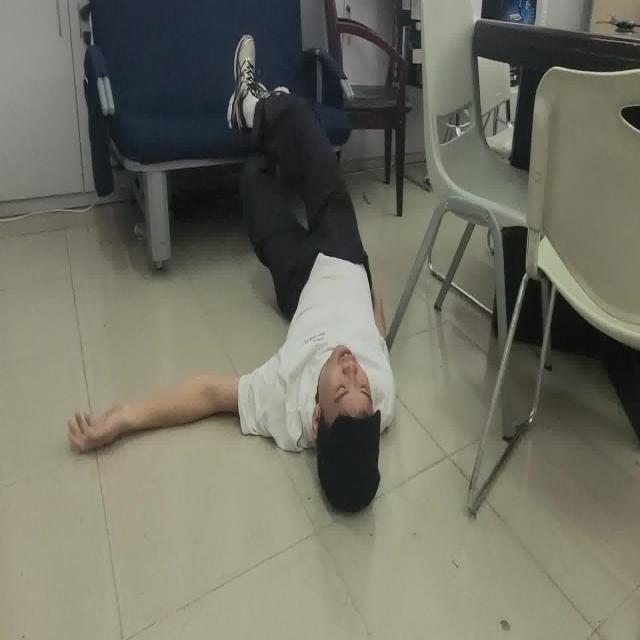fall: (66, 31, 400, 518)
